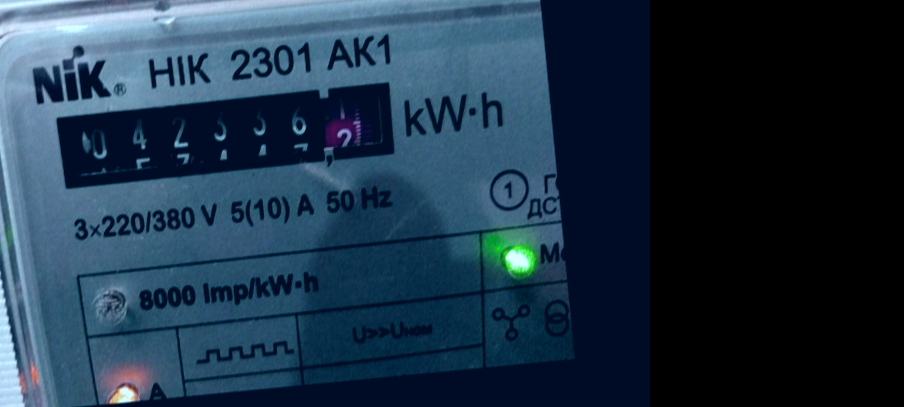0: (87, 125, 110, 162)
1: (333, 93, 348, 123)
2: (167, 113, 190, 151), (333, 127, 354, 149)
3: (207, 105, 230, 145), (245, 102, 268, 140)
4: (127, 114, 149, 153)
6: (284, 101, 309, 138)
screen: (46, 72, 406, 198)
